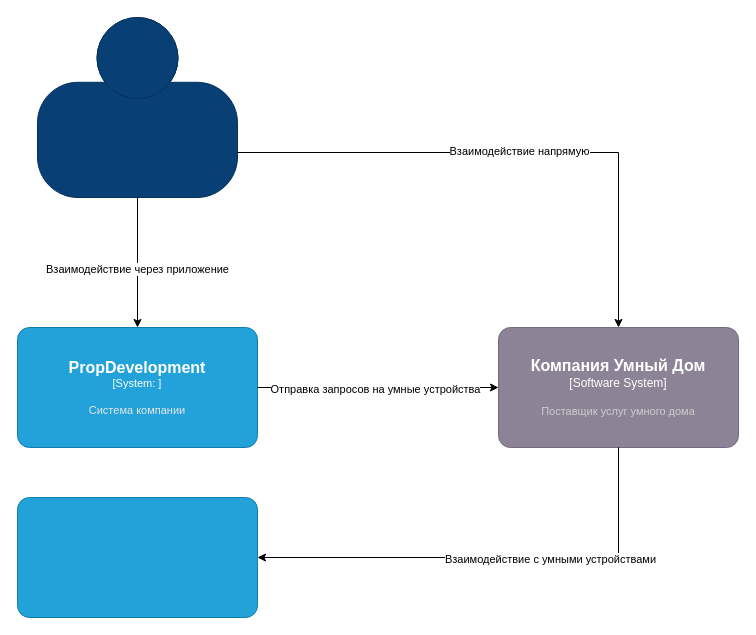
Image size: 756x635. Some labels were removed from this diagram. The shapes that lost their labels are listed below. From the top down, each one's centre as x and y in pixels, then its label:
At point (137, 107): "Собственник [Person] Клиент".
At point (137, 557): "PropDevelopment [System: ] Система умных устройств".
